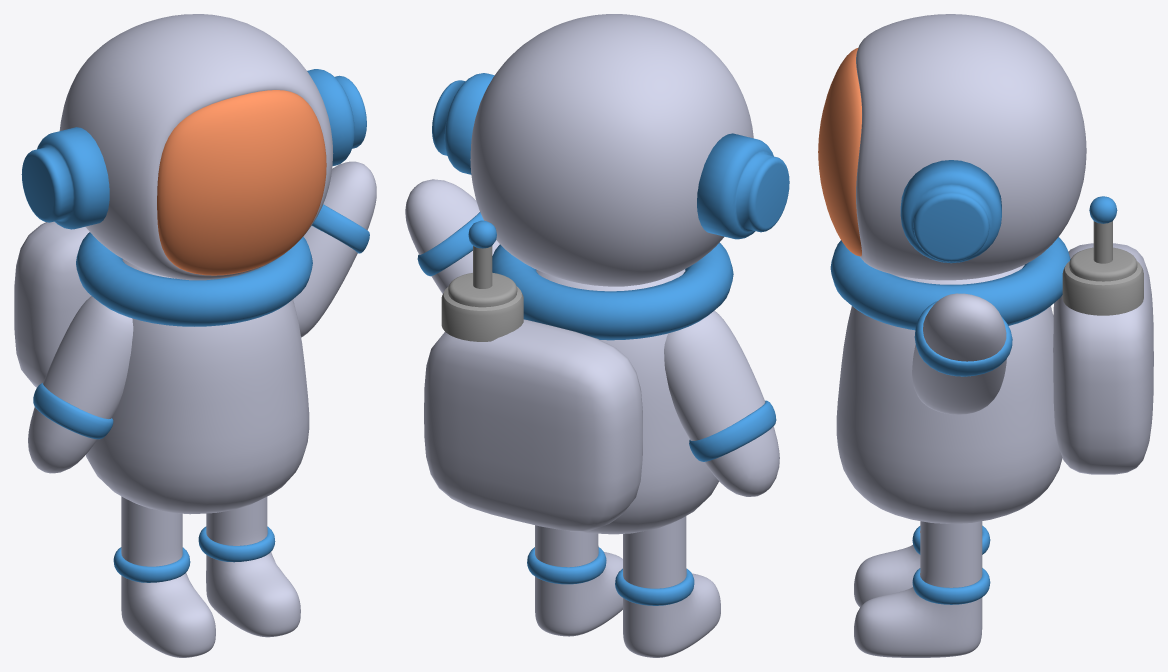
File: Astronaut.fbx
The picture shows the model from 3 angles, left to right: view 1: azimuth 30°, elevation 25°; view 2: azimuth 150°, elevation 25°; view 3: azimuth 270°, elevation 25°; orthographic projection. The views are drawn at different scales.
Parts seen in each view (by area): view 1: Cube.002, Cube, Cube.001, Cube.003, Torus, Cylinder.001, Cube.009, Cube.007, Cube.005, Cube.004, Cube.010, Cube.006; view 2: Cube, Cube.007, Cube.003, Cube.009, Torus, Cylinder.001, Cube.002, Cylinder, Cube.005, Cube.004, Cube.010, Cube.006 (+1 smaller); view 3: Cube, Cube.002, Cube.007, Cube.003, Torus, Cylinder.001, Cube.005, Cube.001, Cylinder, Cube.006, Cube.004, Cube.008.
Boxes of the visible parts, box(x1,y1,x2,y2) form: Cube.002: box(85, 259, 309, 514); Cube: box(59, 14, 333, 280); Cube.001: box(157, 90, 326, 275); Cube.003: box(121, 496, 300, 657); Torus: box(76, 232, 312, 326); Cylinder.001: box(21, 69, 366, 229); Cube.009: box(28, 296, 133, 473); Cube.007: box(14, 221, 91, 387); Cube.005: box(293, 161, 376, 337); Cube.004: box(113, 526, 275, 582); Cube.010: box(33, 383, 113, 439); Cube.006: box(312, 204, 369, 253); Cube: box(470, 14, 753, 286); Cube.007: box(424, 319, 642, 531); Cube.003: box(535, 516, 720, 657); Cube.009: box(664, 310, 779, 496); Torus: box(492, 242, 733, 340); Cylinder.001: box(432, 73, 789, 239); Cube.002: box(536, 269, 719, 534); Cylinder: box(441, 246, 523, 341); Cube.005: box(405, 179, 499, 293); Cube.004: box(527, 547, 694, 605); Cube.010: box(689, 400, 776, 461); Cube.006: box(417, 212, 483, 276); Cube: box(856, 14, 1086, 280); Cube.002: box(836, 265, 1062, 523); Cube.007: box(1053, 243, 1153, 474); Cube.003: box(854, 521, 982, 657); Torus: box(830, 237, 1070, 330); Cylinder.001: box(900, 160, 1001, 263); Cube.005: box(912, 293, 1006, 414); Cube.001: box(818, 48, 861, 256); Cylinder: box(1062, 221, 1143, 315); Cube.006: box(914, 301, 1012, 376); Cube.004: box(912, 525, 990, 604); Cube.008: box(1089, 196, 1117, 223).
Size of the model in its own units: 99.82 by 163 by 82.91.
